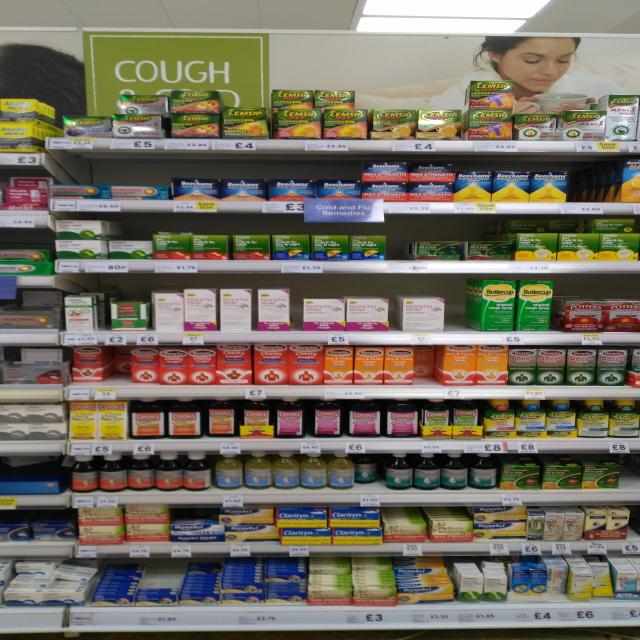void: (575, 157, 620, 213), (609, 455, 640, 503), (448, 281, 471, 344)
